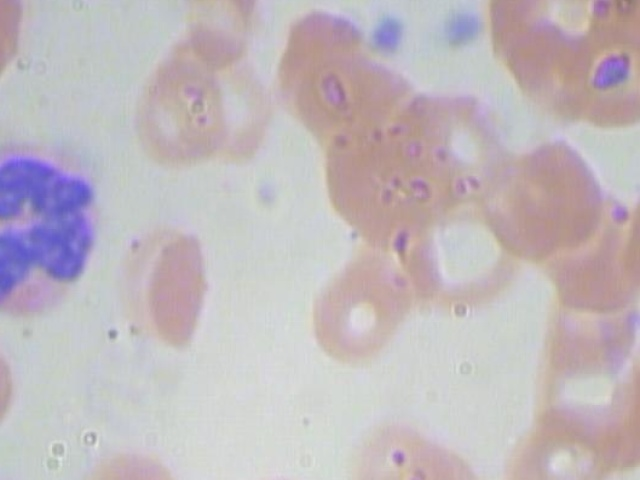Platelets: (364, 4, 417, 65), (434, 0, 487, 59)
RBC: (93, 208, 224, 367), (306, 111, 448, 246), (290, 45, 425, 184), (516, 323, 636, 456), (296, 235, 409, 376), (398, 195, 517, 328), (497, 133, 616, 266), (531, 249, 640, 382), (124, 32, 223, 171), (184, 37, 282, 176), (482, 0, 621, 94), (549, 194, 640, 327), (498, 387, 619, 480), (336, 406, 465, 480), (378, 406, 507, 480), (180, 0, 265, 74), (0, 303, 37, 438), (579, 0, 640, 79), (0, 0, 27, 135), (636, 347, 640, 477)
WBC: (0, 133, 119, 319)
